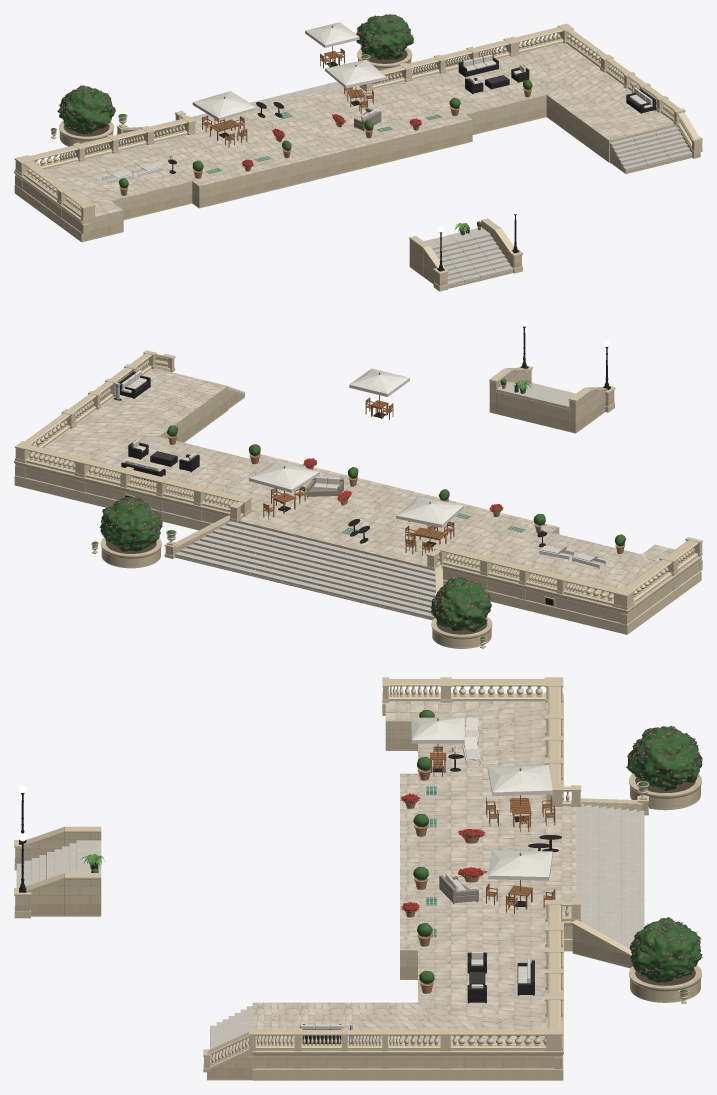
The model's file is terrasse.glb.
3 renders of one model, top to bottom at view 1: azimuth 30°, elevation 25°; view 2: azimuth 150°, elevation 25°; view 3: azimuth 270°, elevation 25°, orthographic. The views are drawn at different scales.
Parts seen in each view (by area): view 1: terrasse_plateforme, terrasse_balustrades_socles_tablettes_des, terrasse_perron_nord_marches, terrasse_escalier_est_marches, terrasse_perron_nord_echiffres, terrasse_laurier_rose.0, terrasse_laurier_rose.1, terrasse_parasol.0, terrasse_parasol.1, terrasse_cordon_plinthe, terrasse_parasol.3_balcon, terrasse_bac_massif.0 (+2 smaller); view 2: terrasse_plateforme, terrasse_perron_sud_marches, terrasse_balustrades_socles_tablettes_des, terrasse_cordon_plinthe, terrasse_perron_nord_marches, terrasse_laurier_rose.1, terrasse_laurier_rose.0, terrasse_perron_nord_echiffres, terrasse_parasol.1, terrasse_parasol.0, terrasse_bac_massif.1, terrasse_bac_massif.0 (+2 smaller); view 3: terrasse_plateforme, terrasse_balustrades_socles_tablettes_des, terrasse_perron_sud_marches, terrasse_cordon_plinthe, terrasse_perron_nord_echiffres, terrasse_laurier_rose.0, terrasse_laurier_rose.1, terrasse_perron_sud_echiffres, terrasse_perron_nord_marches, terrasse_parasol.1, terrasse_parasol.0, terrasse_bac_massif.1 (+5 smaller).
Boxes of the visible parts, left/top/right/bottom form: terrasse_plateforme: left=22, top=43, right=676, bottom=241; terrasse_balustrades_socles_tablettes_des: left=14, top=23, right=702, bottom=234; terrasse_perron_nord_marches: left=424, top=227, right=513, bottom=288; terrasse_escalier_est_marches: left=609, top=126, right=692, bottom=173; terrasse_perron_nord_echiffres: left=409, top=218, right=523, bottom=291; terrasse_laurier_rose.0: left=57, top=85, right=115, bottom=134; terrasse_laurier_rose.1: left=356, top=14, right=414, bottom=59; terrasse_parasol.0: left=192, top=91, right=256, bottom=137; terrasse_parasol.1: left=325, top=59, right=386, bottom=105; terrasse_cordon_plinthe: left=14, top=127, right=177, bottom=242; terrasse_parasol.3_balcon: left=305, top=22, right=359, bottom=66; terrasse_bac_massif.0: left=59, top=121, right=114, bottom=149; terrasse_plateforme: left=26, top=368, right=699, bottom=622; terrasse_perron_sud_marches: left=174, top=521, right=435, bottom=620; terrasse_balustrades_socles_tablettes_des: left=14, top=350, right=702, bottom=624; terrasse_cordon_plinthe: left=14, top=461, right=701, bottom=634; terrasse_perron_nord_marches: left=496, top=381, right=575, bottom=431; terrasse_laurier_rose.1: left=99, top=497, right=162, bottom=551; terrasse_laurier_rose.0: left=431, top=577, right=491, bottom=632; terrasse_perron_nord_echiffres: left=489, top=365, right=615, bottom=433; terrasse_parasol.1: left=249, top=460, right=319, bottom=511; terrasse_parasol.0: left=396, top=496, right=463, bottom=546; terrasse_bac_massif.1: left=100, top=537, right=161, bottom=568; terrasse_bac_massif.0: left=431, top=617, right=492, bottom=648; terrasse_plateforme: left=252, top=701, right=576, bottom=1068; terrasse_balustrades_socles_tablettes_des: left=203, top=677, right=581, bottom=1072; terrasse_perron_sud_marches: left=576, top=804, right=644, bottom=948; terrasse_cordon_plinthe: left=252, top=694, right=572, bottom=1080; terrasse_perron_nord_echiffres: left=14, top=826, right=101, bottom=918; terrasse_laurier_rose.0: left=625, top=726, right=702, bottom=791; terrasse_laurier_rose.1: left=629, top=917, right=702, bottom=982; terrasse_perron_sud_echiffres: left=572, top=796, right=648, bottom=968; terrasse_perron_nord_marches: left=16, top=840, right=101, bottom=887; terrasse_parasol.1: left=488, top=850, right=552, bottom=906; terrasse_parasol.0: left=487, top=764, right=553, bottom=822; terrasse_bac_massif.1: left=629, top=965, right=701, bottom=1002.
Bounding box in the file's own units: 41.69 × 9.85 × 33.95.
27 materials, 7 textured.
